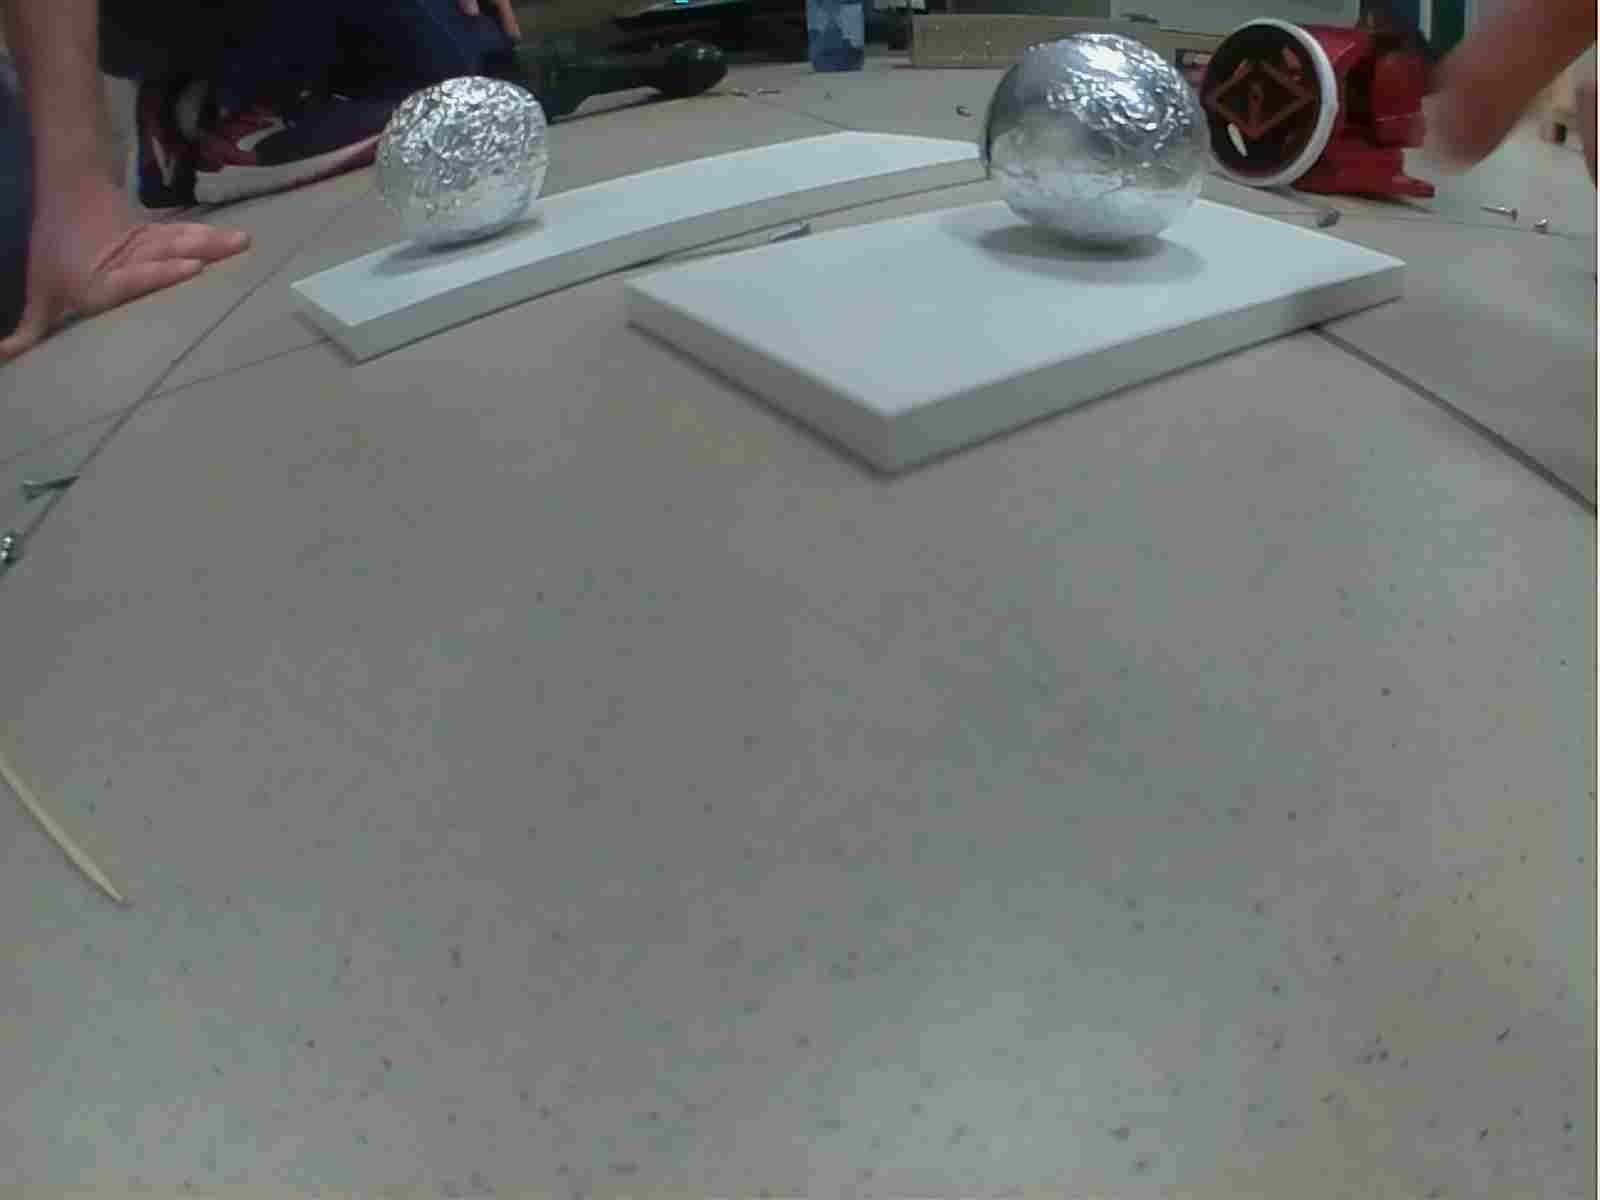bianca: (969, 32, 1211, 252), (368, 74, 552, 250)
